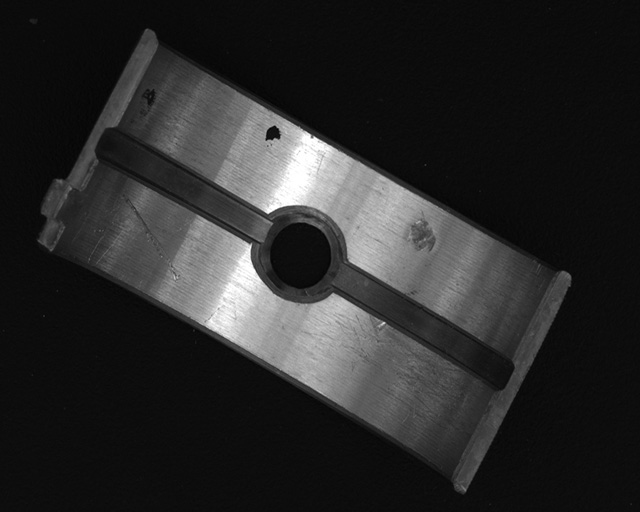blot: (140, 86, 155, 115), (265, 124, 281, 148)
bruise: (408, 210, 437, 253)
gap: (335, 262, 513, 389), (97, 127, 271, 243)
hole: (257, 206, 343, 300)
nick: (122, 191, 182, 282)
scratch: (340, 298, 468, 419)
